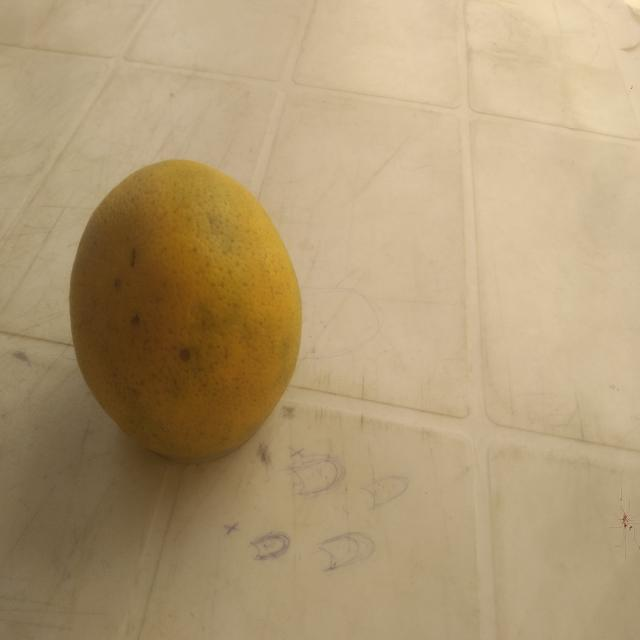Ripe orange: (57, 152, 309, 494)
